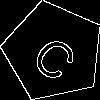C: (28, 27, 87, 85)
